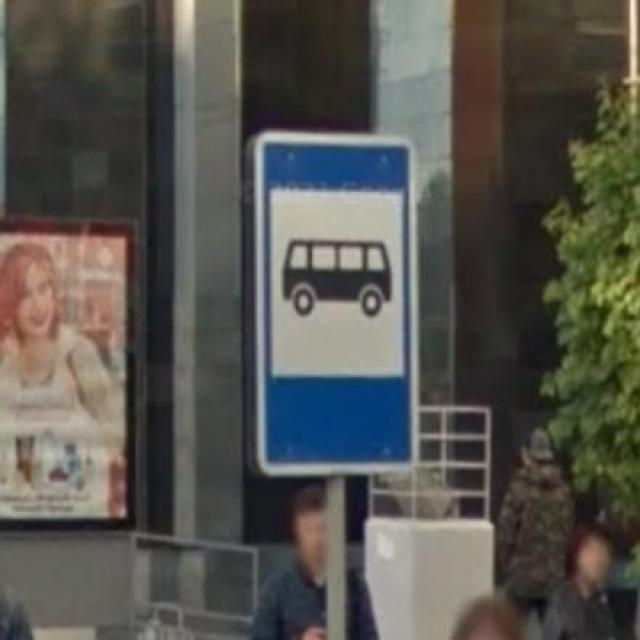traffic_sign: (254, 130, 418, 477)
